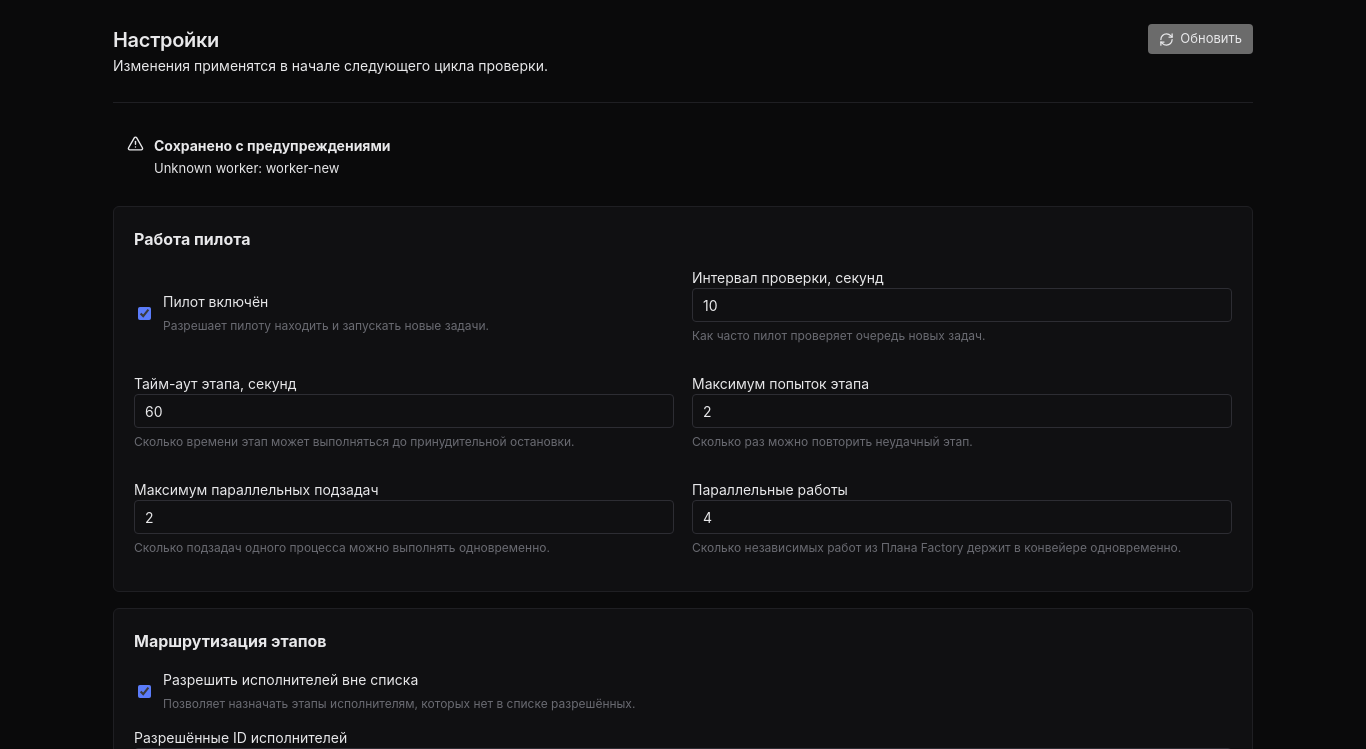
Test case: shows all pilot sections, warnings, and saves an edited value without losing notes
The image size is (1366, 749).
Check: the heading "Настройки" is shown, box [113, 28, 219, 52]
Check: the text "Unknown worker: worker-new" is shown, box [154, 160, 340, 176]
Replace the text in the number field labelled "Интервал проверки, секунд" with "15" at (962,305), box [692, 288, 1232, 322]
(page scrolled)
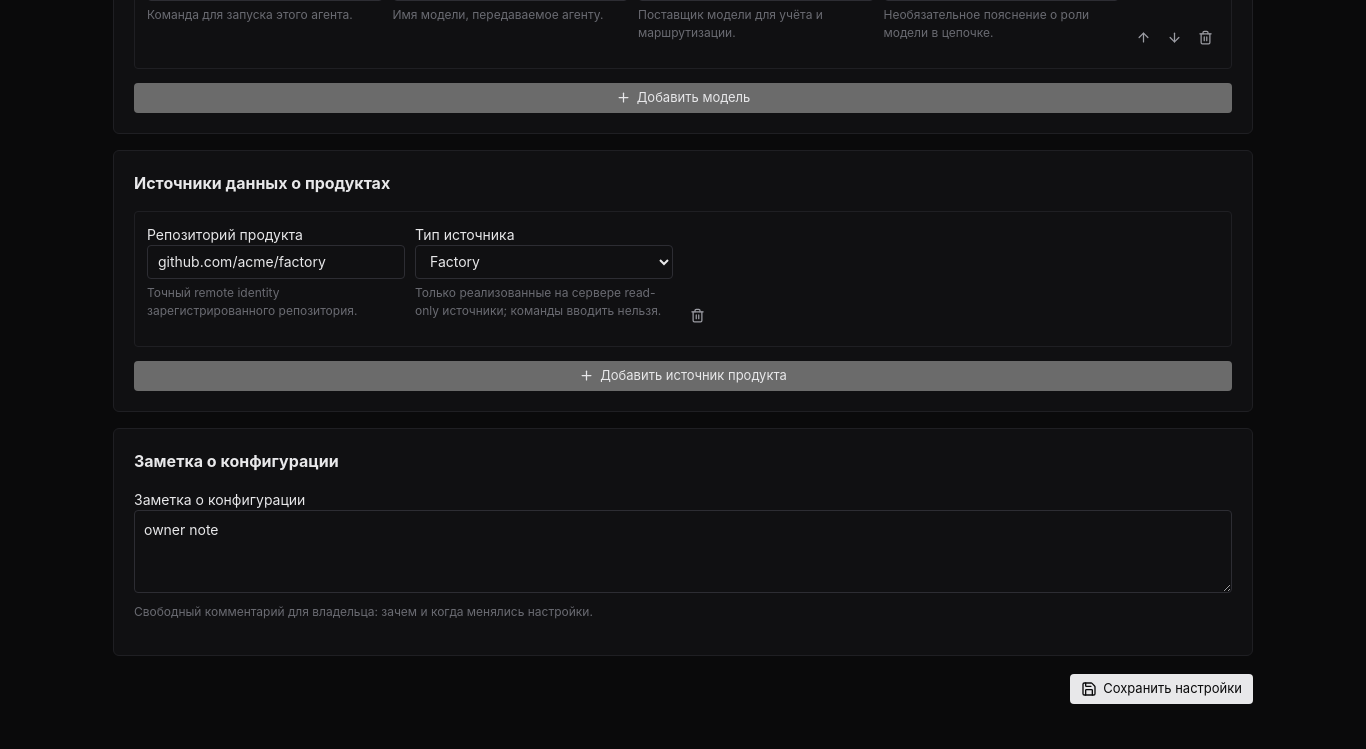
Click the button "Сохранить настройки" at (1162,689), box [1070, 674, 1253, 704]
(page scrolled)
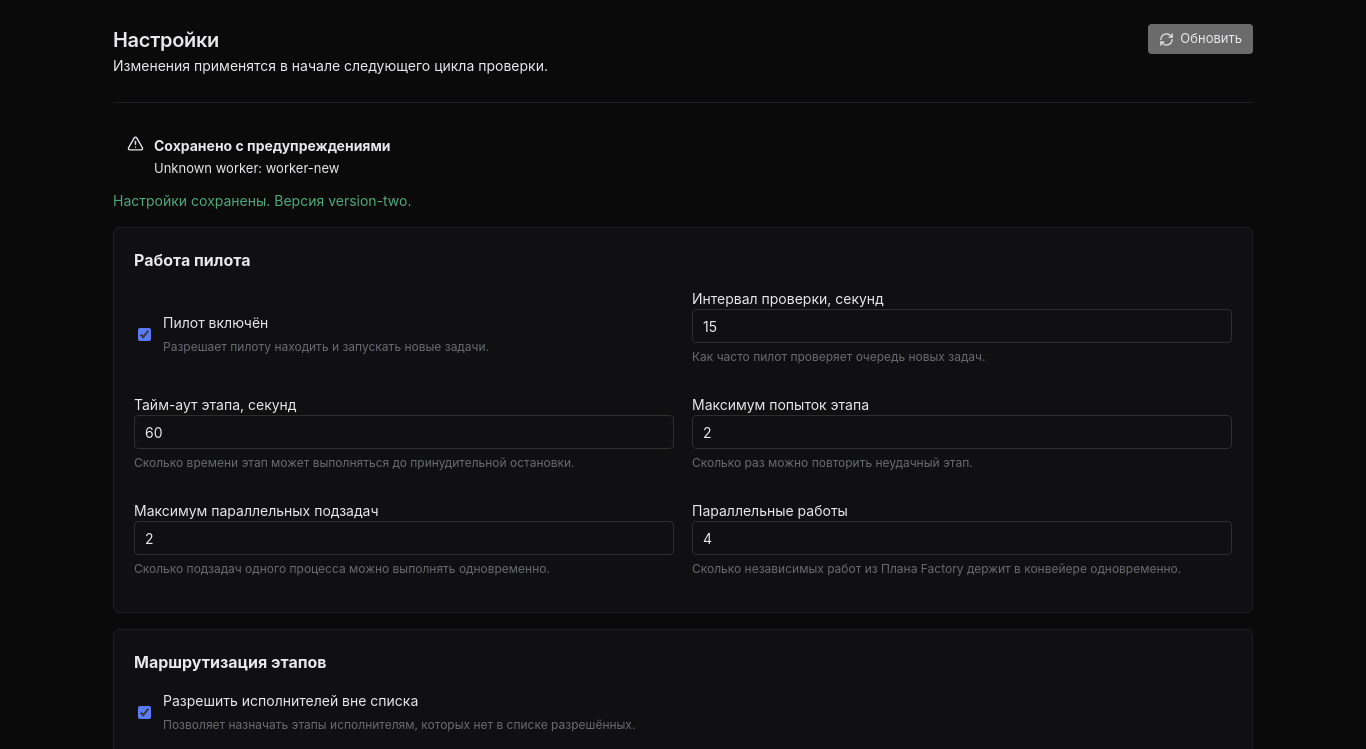
Check: the text "Настройки сохранены. Версия version-two." is shown, box [113, 192, 412, 209]
